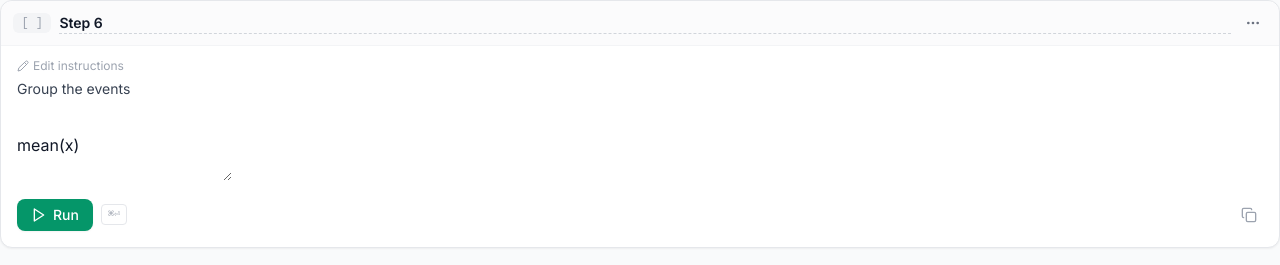
Test: NotebookCell overflow menu › offers an author lock, duplicate and delete on a code cell
This screenshot has width=1280, height=265.
Click the button named "Cell actions" at (1253, 23), box x1=1239 y1=9 x2=1267 y2=37
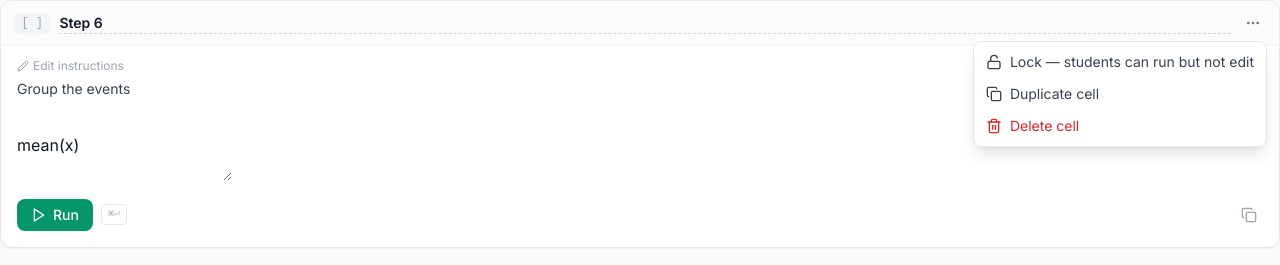
Now the text "Duplicate cell" is shown, box x1=1010 y1=84 x2=1099 y2=104
Now the text "Delete cell" is shown, box x1=1010 y1=116 x2=1079 y2=136
